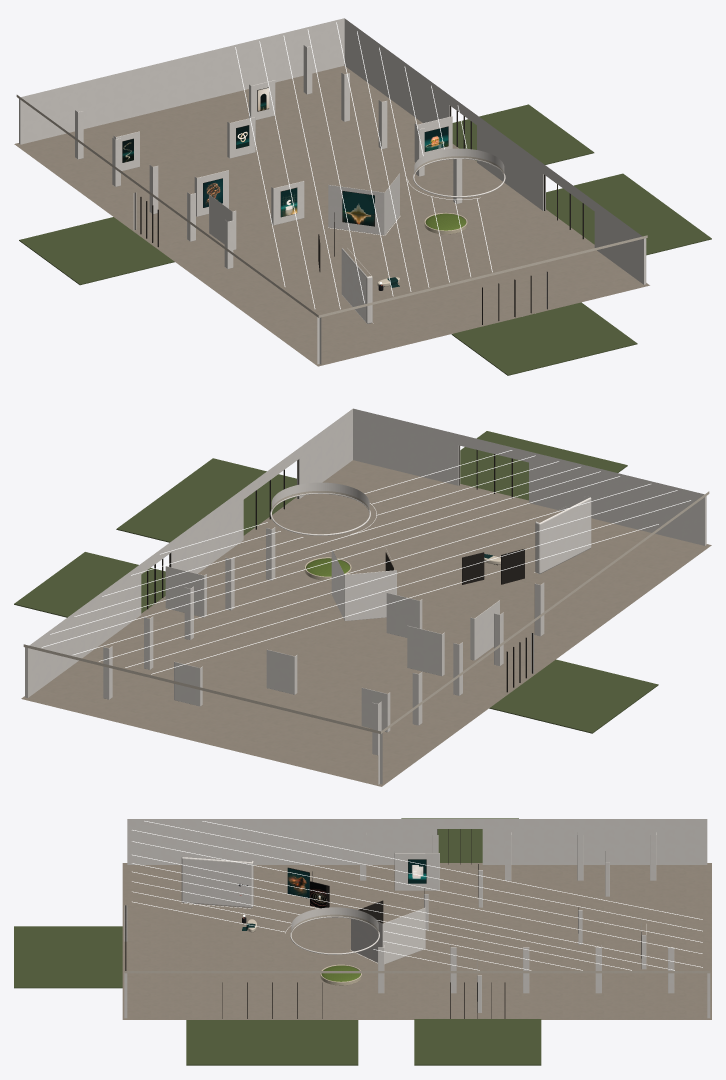
Rendered from entrance.glb.
3 renders of one model, top to bottom at view 1: azimuth 30°, elevation 25°; view 2: azimuth 150°, elevation 25°; view 3: azimuth 270°, elevation 25°, orthographic. The views are drawn at different scales.
Visible parts, largest first — view 1: LM_floor__00, LM_walls__00, LM_objects__03, LM_exterior__00, LM_exterior__01, LM_exterior__02, LM_exterior__03, EMIT_lights, LM_ceiling__01, LM_objects__02, LM_ceiling__00, PORTAL_sound; view 2: LM_floor__00, LM_walls__00, LM_objects__03, LM_exterior__02, LM_exterior__01, EMIT_lights, LM_exterior__03, LM_exterior__00, LM_objects__02, LM_ceiling__01, LM_ceiling__00; view 3: LM_floor__00, LM_walls__00, LM_objects__03, LM_exterior__01, LM_exterior__00, LM_exterior__03, EMIT_lights, LM_ceiling__01, LM_exterior__02, LM_objects__02, LM_ceiling__00, PORTAL_film (+3 smaller).
Boxes of the visible parts, x1,y1,x2,y2 form: LM_floor__00: (14,65,649,366); LM_walls__00: (19,18,646,364); LM_objects__03: (113,80,452,323); LM_exterior__00: (451,302,637,375); LM_exterior__01: (546,173,711,255); LM_exterior__02: (19,217,174,285); LM_exterior__03: (452,104,594,164); EMIT_lights: (235,22,492,323); LM_ceiling__01: (16,95,647,317); LM_objects__02: (122,87,583,324); LM_ceiling__00: (413,148,505,197); PORTAL_sound: (342,191,374,226); LM_floor__00: (21,460,711,786); LM_walls__00: (25,408,706,784); LM_objects__03: (165,497,591,732); LM_exterior__02: (489,659,658,733); LM_exterior__01: (116,458,296,542); EMIT_lights: (41,450,690,674); LM_exterior__03: (14,552,165,617); LM_exterior__00: (460,431,627,500); LM_objects__02: (147,445,532,692); LM_ceiling__01: (23,491,709,733); LM_ceiling__00: (270,482,370,535); LM_floor__00: (122,863,711,1019); LM_walls__00: (124,819,710,1018); LM_objects__03: (181,851,646,1012); LM_exterior__01: (186,1020,358,1065); LM_exterior__00: (14,926,122,988); LM_exterior__03: (414,1019,541,1065); EMIT_lights: (132,821,702,970); LM_ceiling__01: (124,914,710,973); LM_exterior__02: (401,818,518,862); LM_objects__02: (125,829,641,1018); LM_ceiling__00: (290,907,379,954); PORTAL_film: (287,868,309,898).
Bounding box in the file's own units: 64.32 × 6.9 × 77.
Materials: 33 (20 with a texture image).
